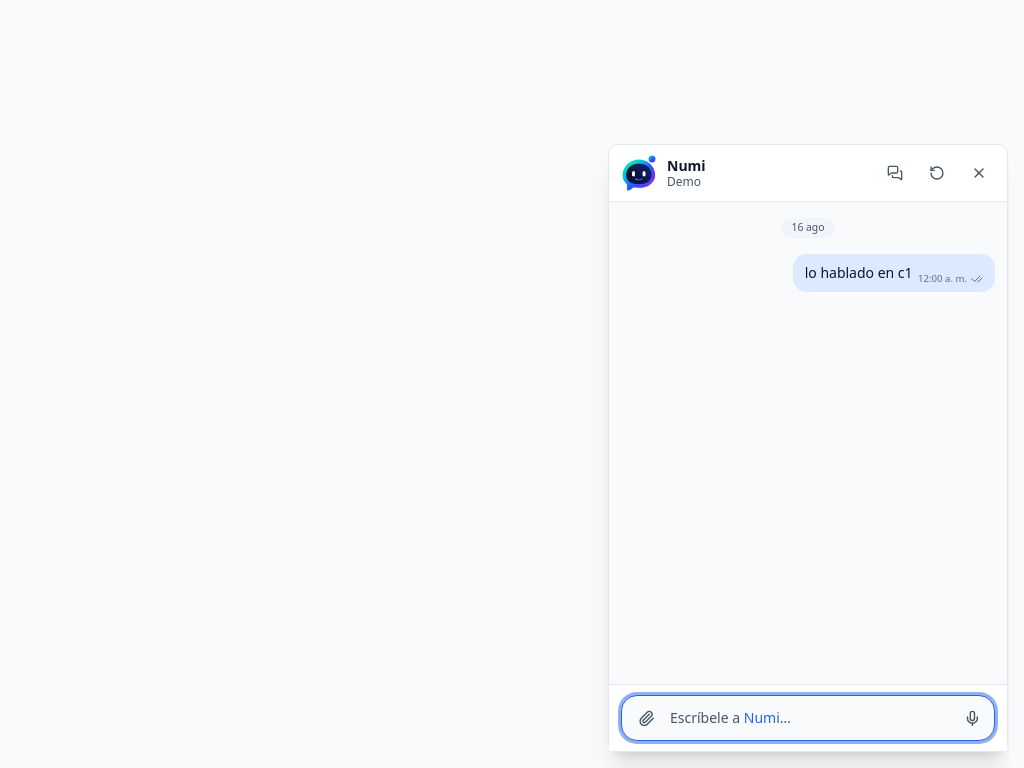
Scenario: elegir una conversación la abre en el hilo y sustituye lo que había
This screenshot has width=1024, height=768.
What coordinates should you click on to do the following:
click the button named "Ver mis conversaciones"
I would click on:
 (895, 173)
Its box is [879,157,911,189].
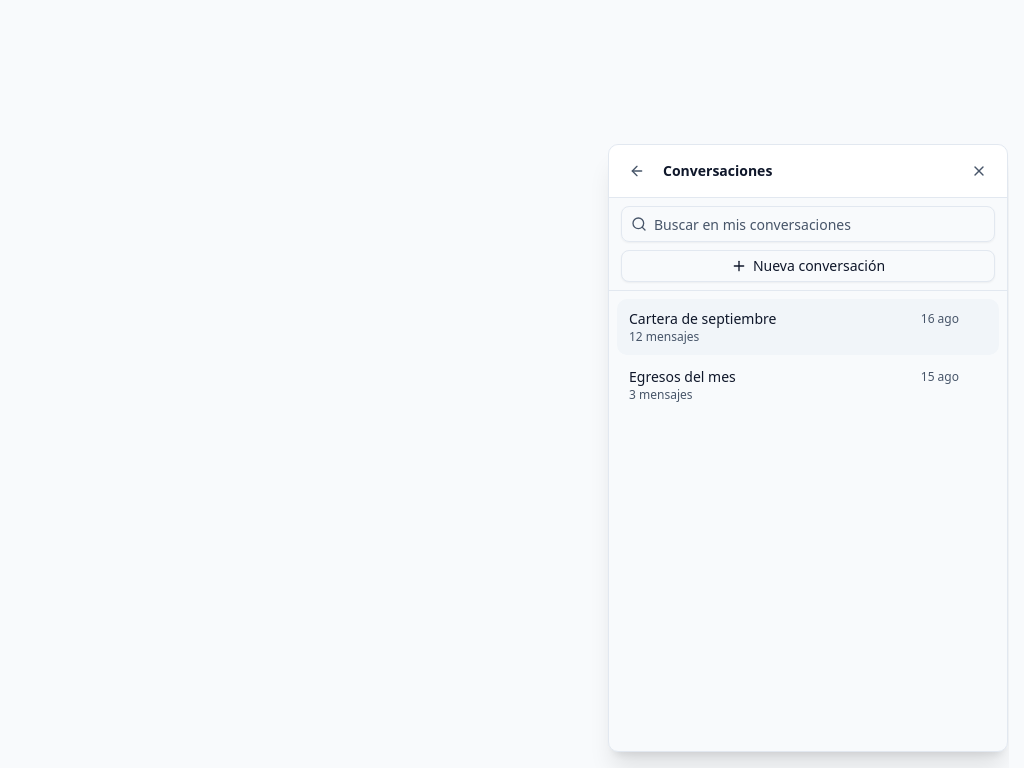
What coordinates should you click on to do the following:
click the text "Egresos del mes"
I would click on:
 (682, 376)
Its box is [629,367,736,386].
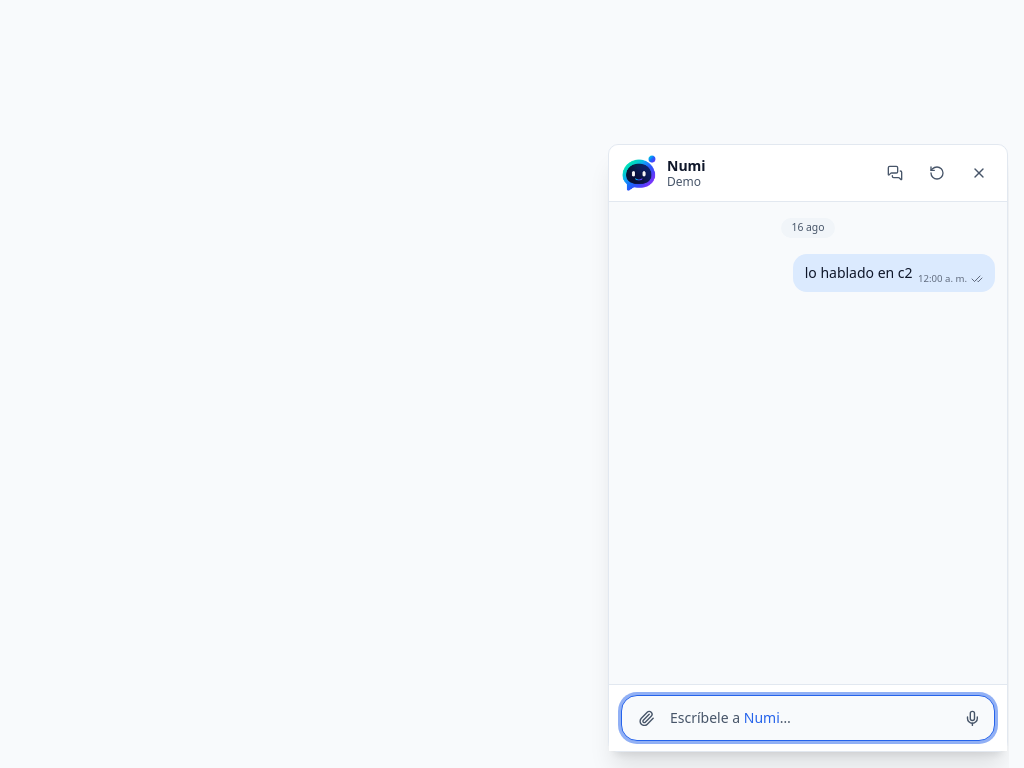
Result: the text "lo hablado en c2" is shown at [805,263,913,282]
Result: the button "Cartera de septiembre" is gone
